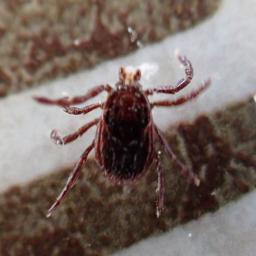Rhipicephalus sanguineus: (32, 53, 208, 220)
